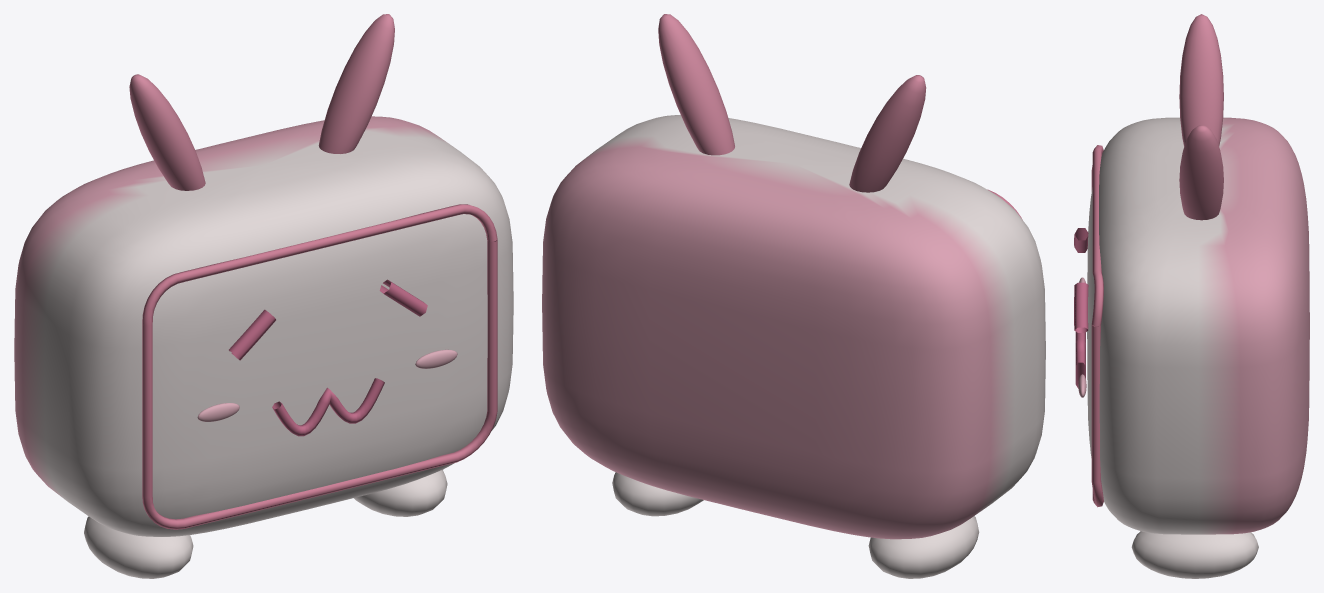
The model's file is bili_pillow.glb.
The picture shows the model from 3 angles, left to right: view 1: azimuth 30°, elevation 25°; view 2: azimuth 150°, elevation 25°; view 3: azimuth 270°, elevation 25°; orthographic projection. The views are drawn at different scales.
Parts seen in each view (by area): view 1: bili_pillow; view 2: bili_pillow; view 3: bili_pillow.
Part boxes in pixels (box(x1,y1,x2,y2)): bili_pillow: box(14, 14, 513, 578); bili_pillow: box(542, 14, 1045, 578); bili_pillow: box(1074, 14, 1309, 578).
Bounding box in the file's own units: 0.145 × 0.1546 × 0.0741.
